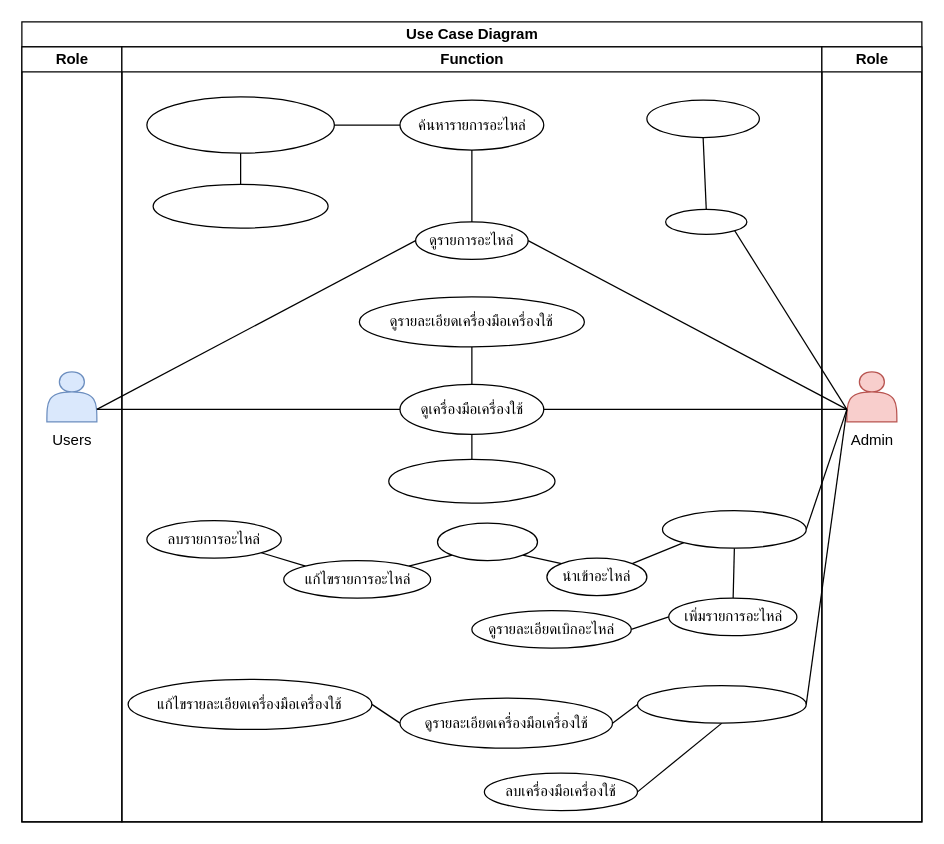
This 944x844 diagram has some shape labels left out. The shapes that lost their labels are listed below. From the top down, each one's box as (x1, y1, x2, y2) in pixels, then its label:
(146, 96, 334, 153): เลือกหมวดหมู่รายการอะไหล่
(646, 99, 759, 138): ออกจากระบบ
(152, 183, 328, 228): ดูแจ้งเตือนรายการอะไหล่
(664, 208, 747, 234): Login
(388, 458, 555, 503): ค้นหาเครื่องมือเครื่องใช้
(436, 522, 538, 561): นำออกอะไหล่
(661, 509, 806, 548): จัดการรายการอะไหล่
(636, 684, 806, 723): จัดการเครื่องมือเครื่องใช้
